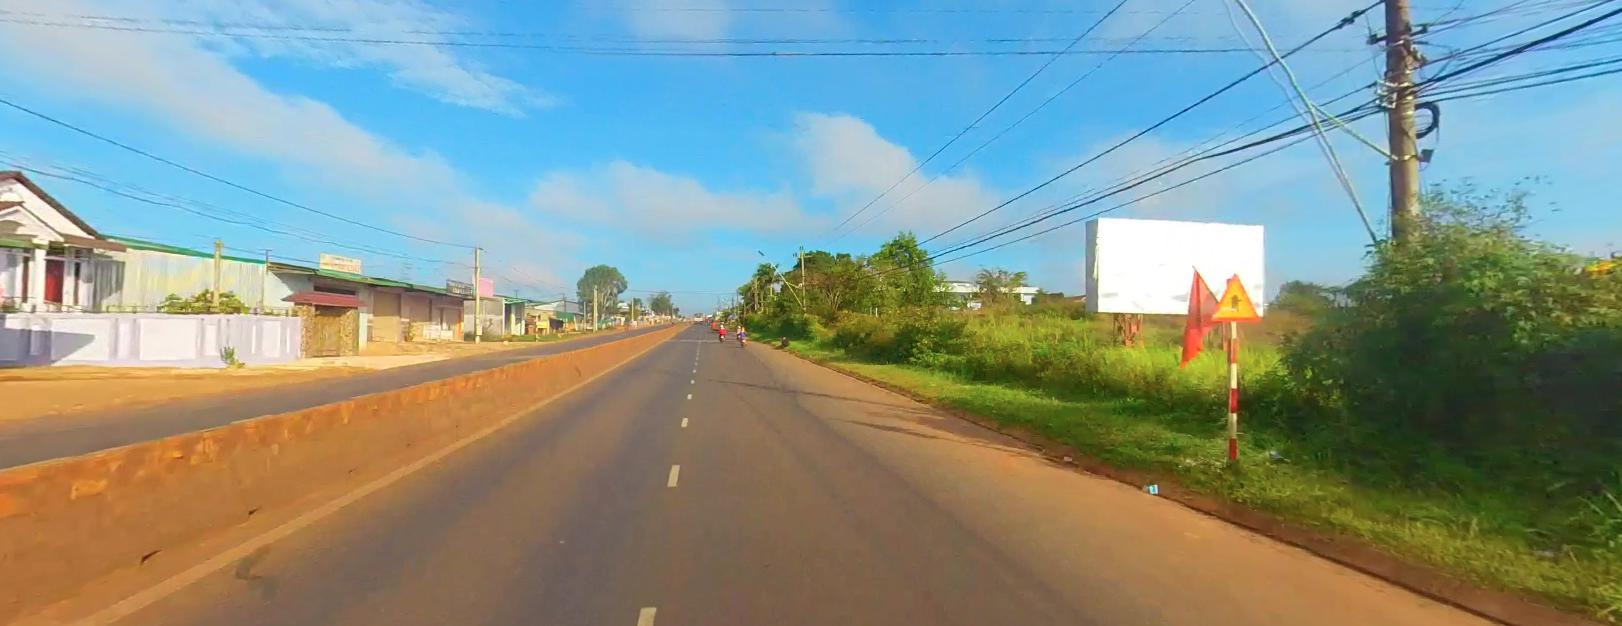Nguy hiem: (1209, 267, 1262, 327)
